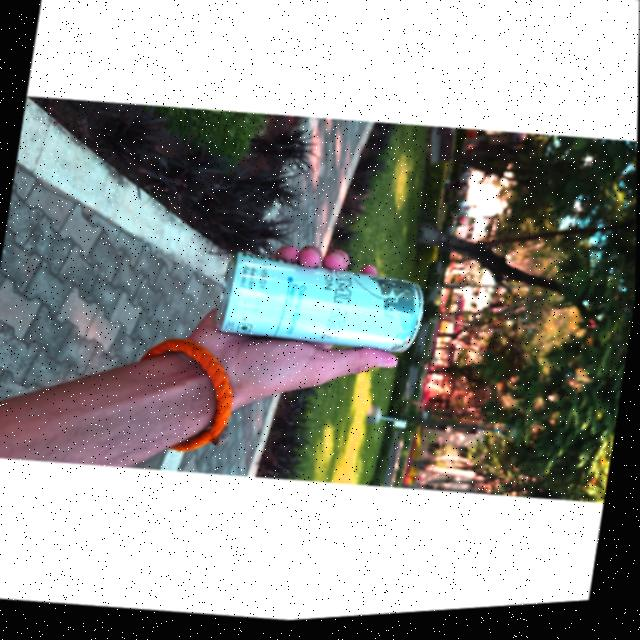Redbull Summer Edition: (215, 249, 425, 370)
